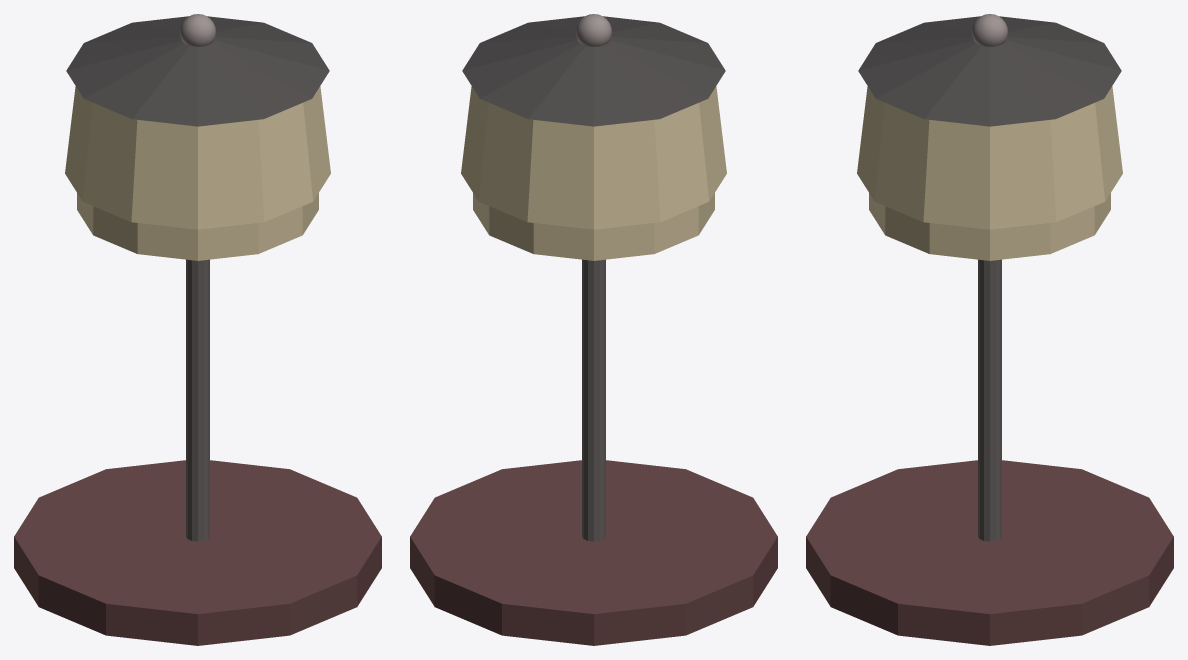
3 views of the same model, side by side, from view 1: azimuth 30°, elevation 25°; view 2: azimuth 150°, elevation 25°; view 3: azimuth 270°, elevation 25° (orthographic).
Parts seen in each view (by area): view 1: Cylinder-S3D-22, Cylinder-S3D-13, Cone-S3D-15, Cylinder-S3D-21, Sphere-S3D-20-SMOOTHED; view 2: Cylinder-S3D-22, Cylinder-S3D-13, Cone-S3D-15, Cylinder-S3D-21, Sphere-S3D-20-SMOOTHED; view 3: Cylinder-S3D-22, Cylinder-S3D-13, Cone-S3D-15, Cylinder-S3D-21, Sphere-S3D-20-SMOOTHED.
Boxes of the visible parts, x1,y1,x2,y2 form: Cylinder-S3D-22: (14, 460, 381, 645); Cylinder-S3D-13: (65, 86, 330, 260); Cone-S3D-15: (66, 16, 329, 126); Cylinder-S3D-21: (186, 259, 209, 541); Sphere-S3D-20-SMOOTHED: (180, 14, 215, 46); Cylinder-S3D-22: (410, 460, 777, 645); Cylinder-S3D-13: (461, 86, 726, 260); Cone-S3D-15: (462, 16, 725, 126); Cylinder-S3D-21: (582, 259, 605, 541); Sphere-S3D-20-SMOOTHED: (576, 14, 611, 46); Cylinder-S3D-22: (806, 460, 1173, 645); Cylinder-S3D-13: (857, 86, 1122, 260); Cone-S3D-15: (858, 16, 1121, 126); Cylinder-S3D-21: (978, 259, 1001, 541); Sphere-S3D-20-SMOOTHED: (972, 14, 1007, 46).
Bounding box in the file's own units: 3.04 × 5.04 × 3.04.
